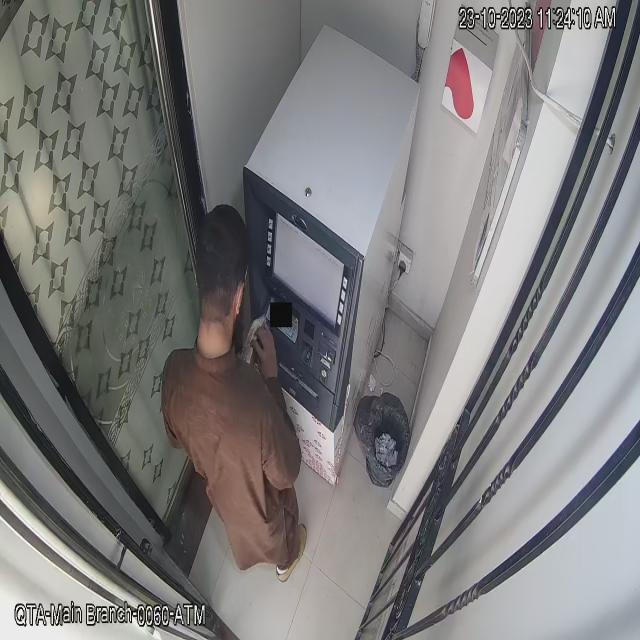note: (240, 314, 271, 372)
